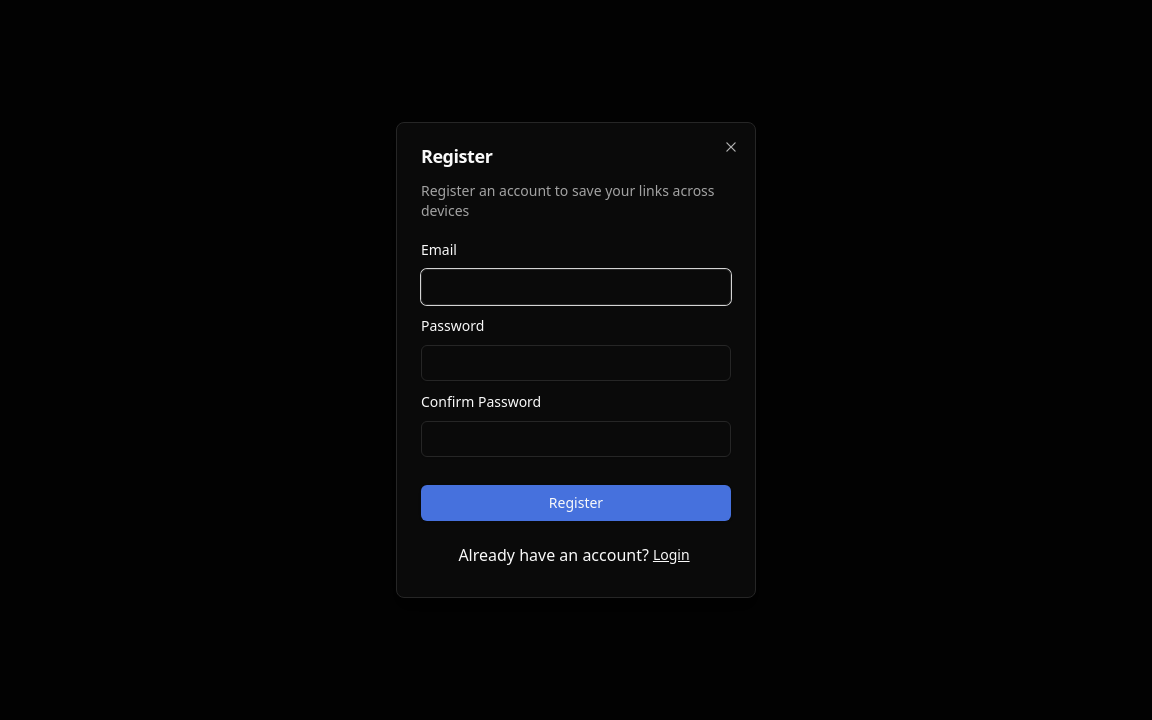
Test case: LoginRegister › should show error message when password is less than 8 characters
The image size is (1152, 720).
In the field labelled "Email": {"x": 576, "y": 287} [421,269,731,305], type "test@email.com"
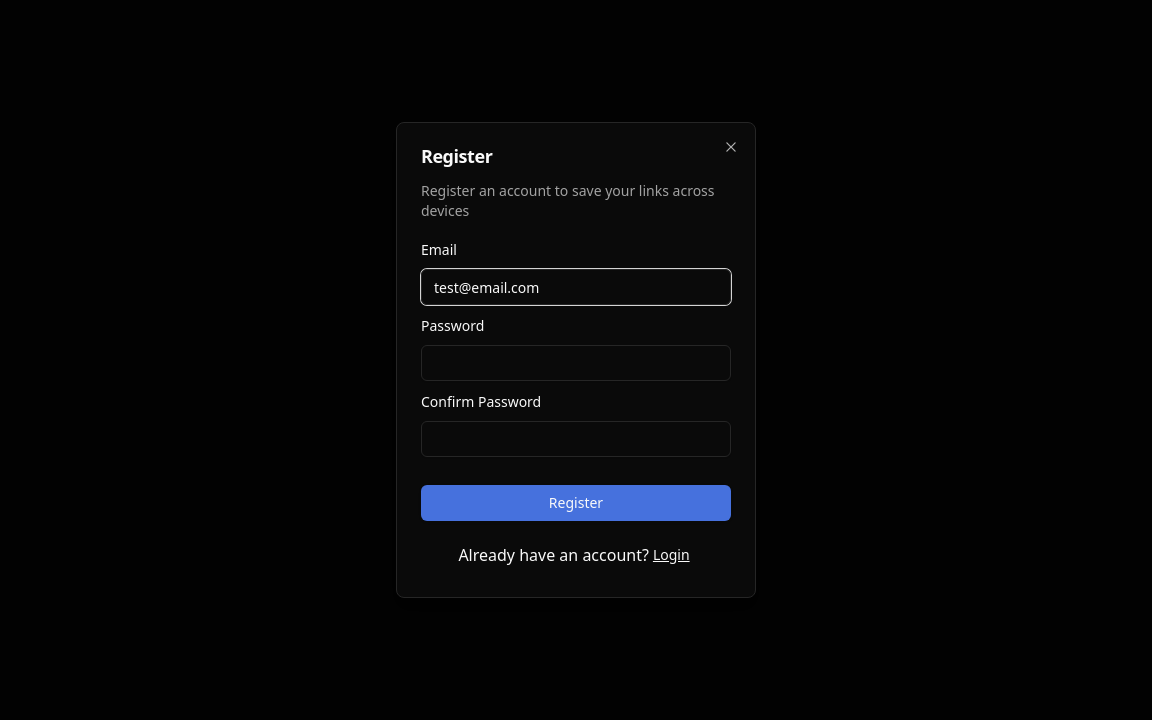
In the password field labelled "Password": {"x": 576, "y": 363} [421,345,731,381], type "pass"
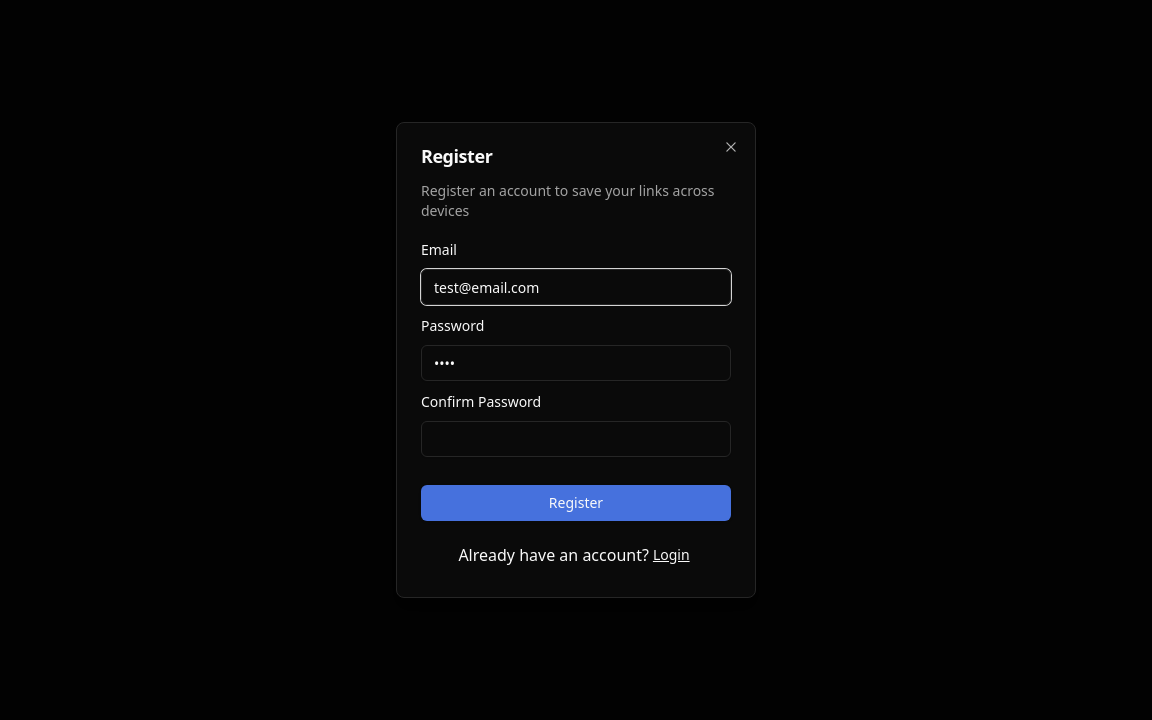
Click the button "Register": {"x": 576, "y": 503} [421,485,731,521]
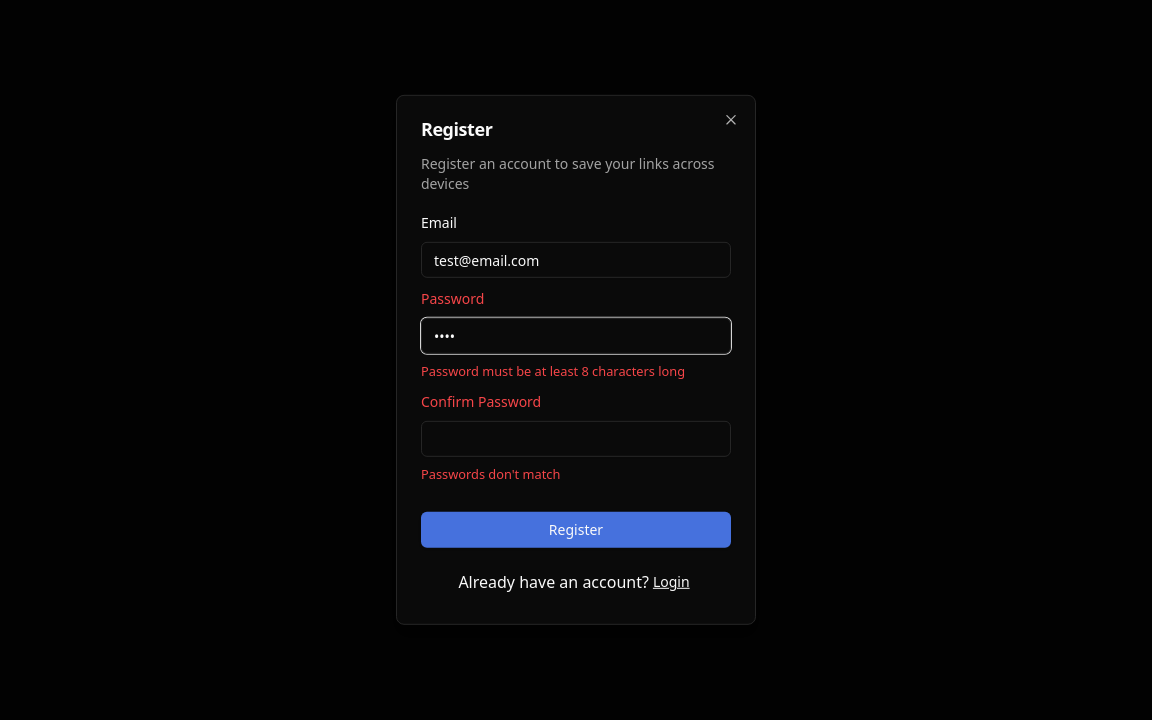
Expected: the text "Password must be at least 8 characters long" is shown, [421,362,731,381]
